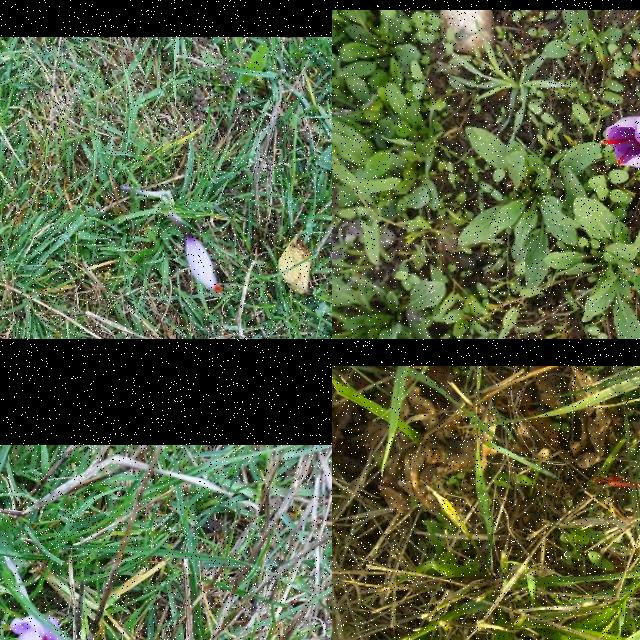flower: (184, 233, 222, 294), (600, 113, 640, 168), (595, 467, 640, 503), (10, 616, 69, 640)
